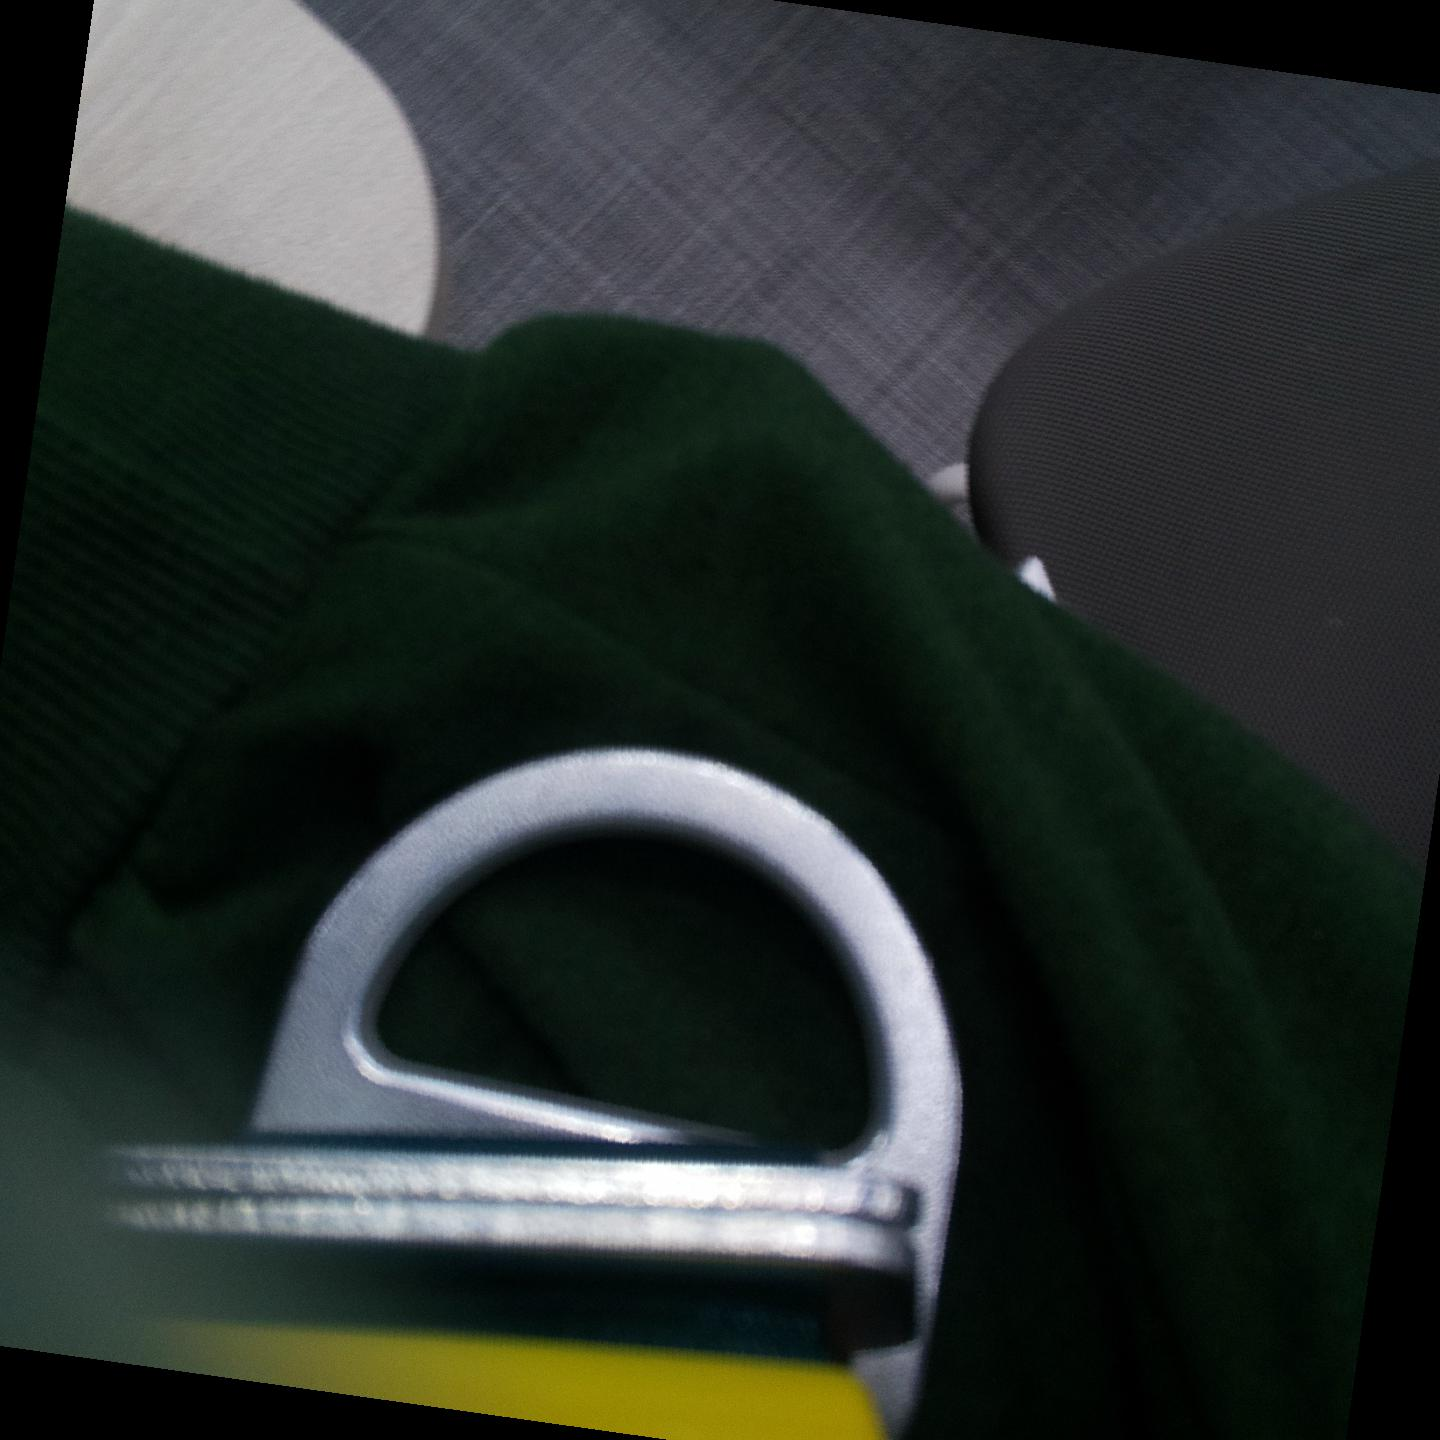UNSUCCESS: (256, 748, 964, 1141)
